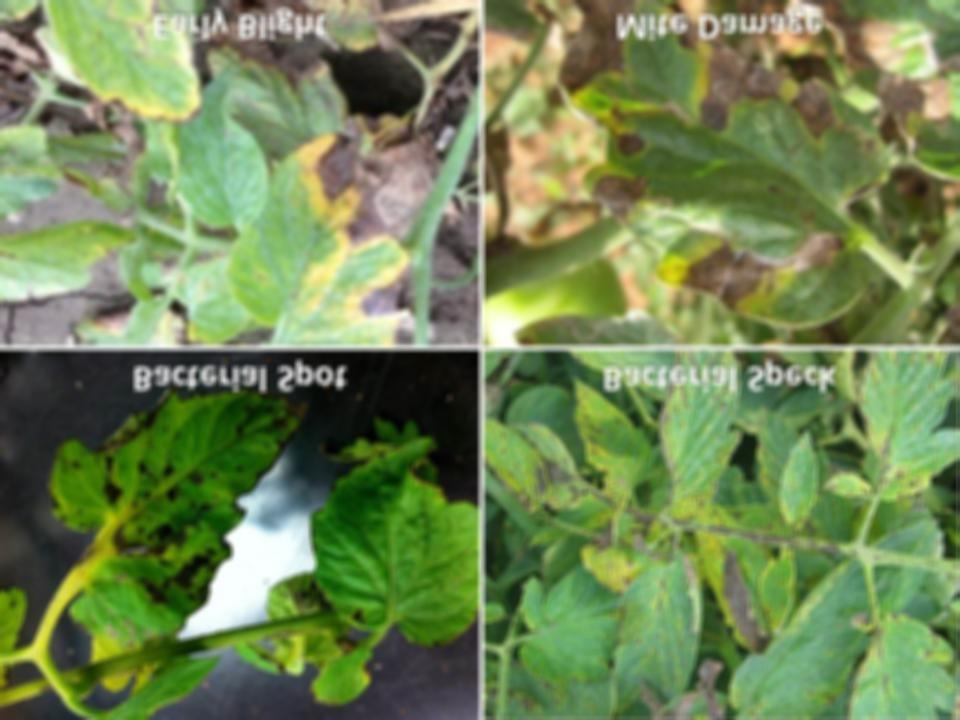Tomato Early blight leaf: (45, 5, 426, 335)
Tomato leaf bacterial spot: (45, 369, 302, 637), (283, 408, 478, 639), (733, 513, 929, 715), (818, 358, 960, 511), (599, 537, 713, 715), (642, 355, 749, 543), (767, 433, 838, 550), (752, 552, 803, 643)
